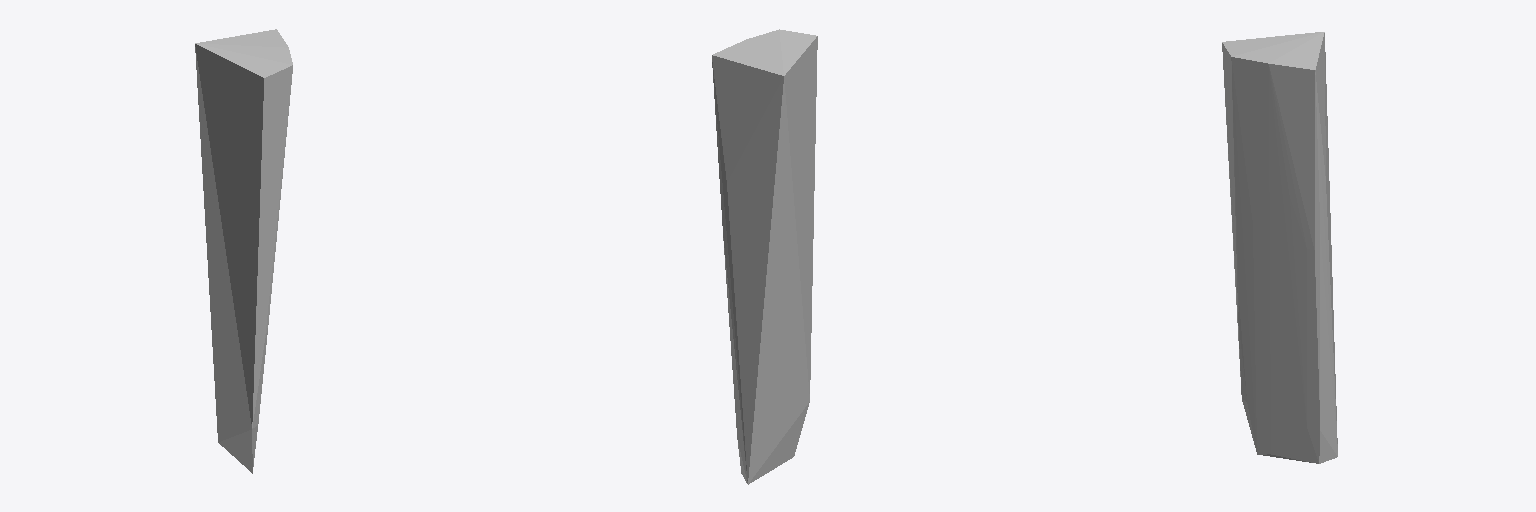
The model's file is trash_bin_collision_57.obj.
3 views of the same model, side by side, from view 1: azimuth 30°, elevation 25°; view 2: azimuth 150°, elevation 25°; view 3: azimuth 270°, elevation 25° (orthographic).
Size of the model in its own units: 0.0168 by 0.0854 by 0.0219.